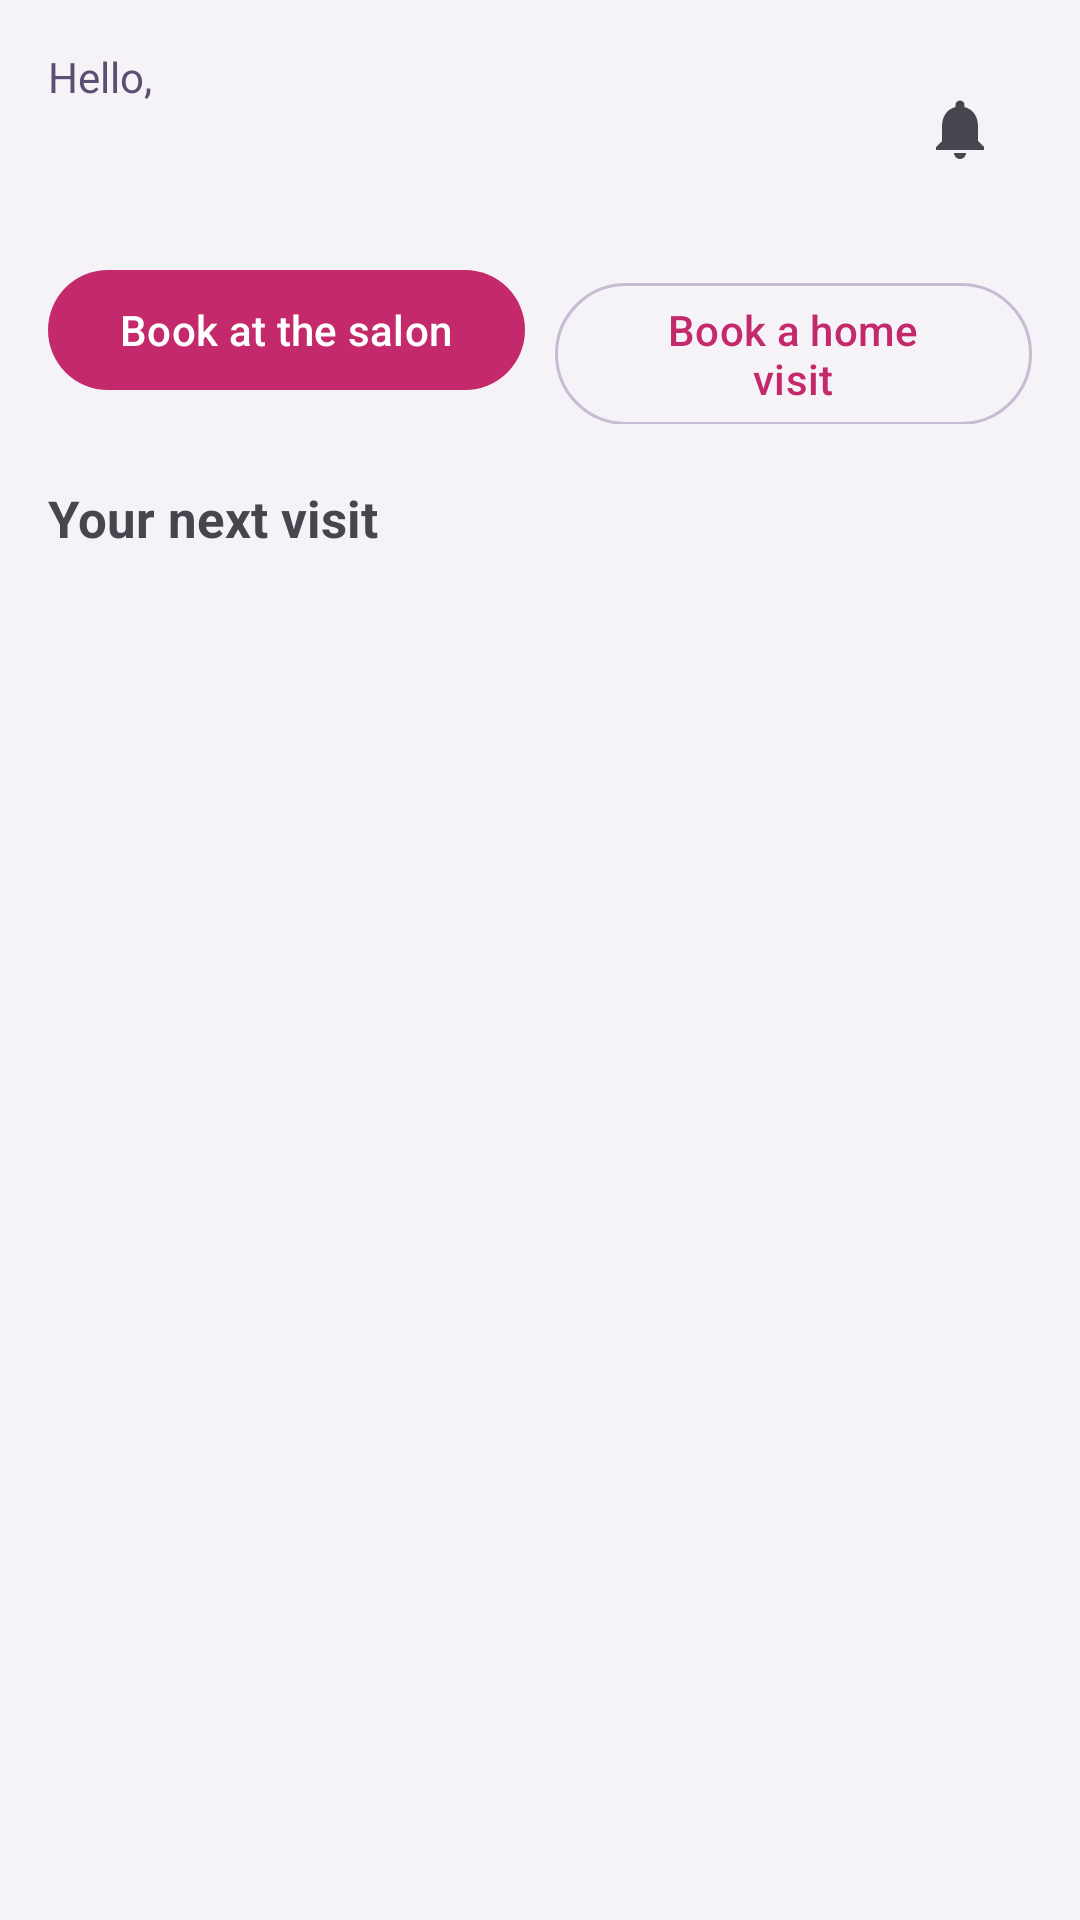

Where to tap for icons on this 1080px x 1920px app screen, as [x,y]:
Notifications: [960,129]
